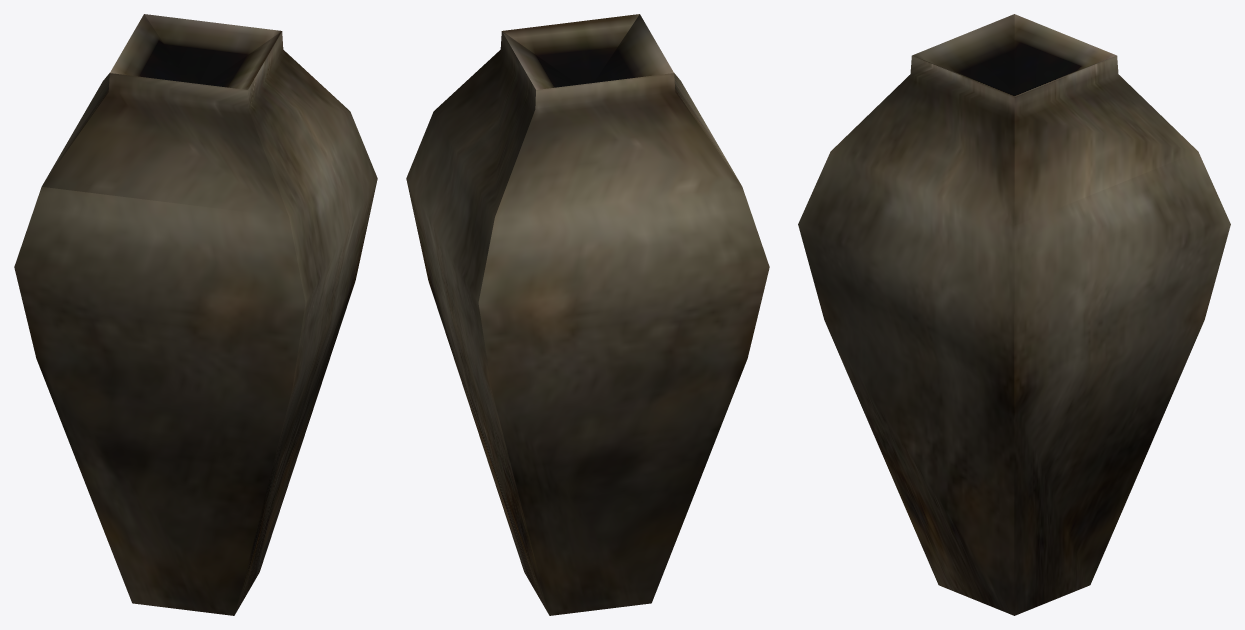
Rendered from largejug_A2.fbx.
3 views of the same model, side by side, from view 1: azimuth 30°, elevation 25°; view 2: azimuth 150°, elevation 25°; view 3: azimuth 270°, elevation 25° (orthographic).
Visible parts, largest first — view 1: lod_high; view 2: lod_high; view 3: lod_high.
Part boxes in pixels (x1,y1,x2,y2): lod_high: (14, 14, 377, 615); lod_high: (406, 14, 769, 615); lod_high: (798, 14, 1230, 615).
Size of the model in its own units: 134 by 188 by 140.
Materials: 1 (1 with a texture image).
